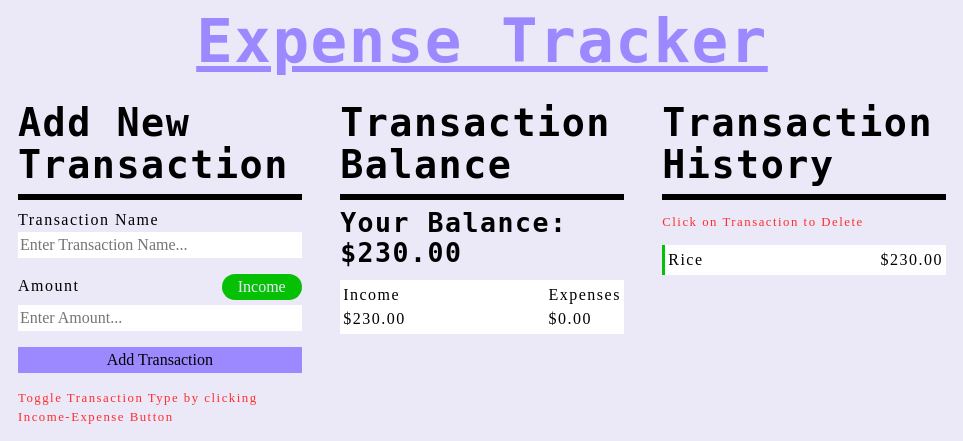
Test: App › it updates expense with form data
The image size is (963, 441).
Type "Beans" into the field with placeholder "Enter Transaction Name...".
click(160, 245); type("Beans")  # box [18,232,302,258]
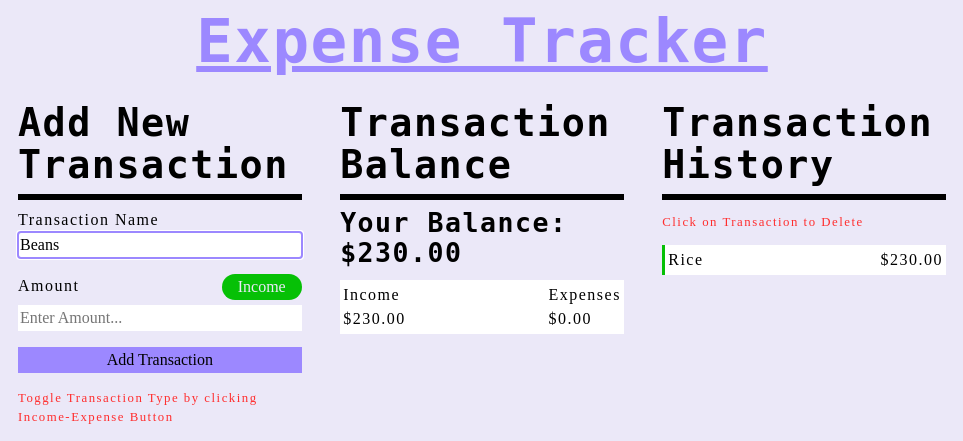
Click the button "Income".
click(262, 287)  # box [222,274,302,300]
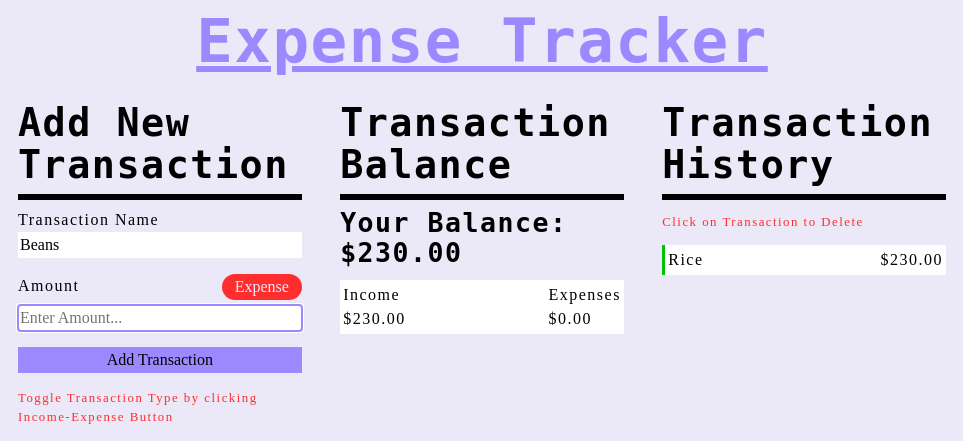
Type "30" into the field with placeholder "Enter Amount...".
click(160, 318); type("30")  # box [18,305,302,331]
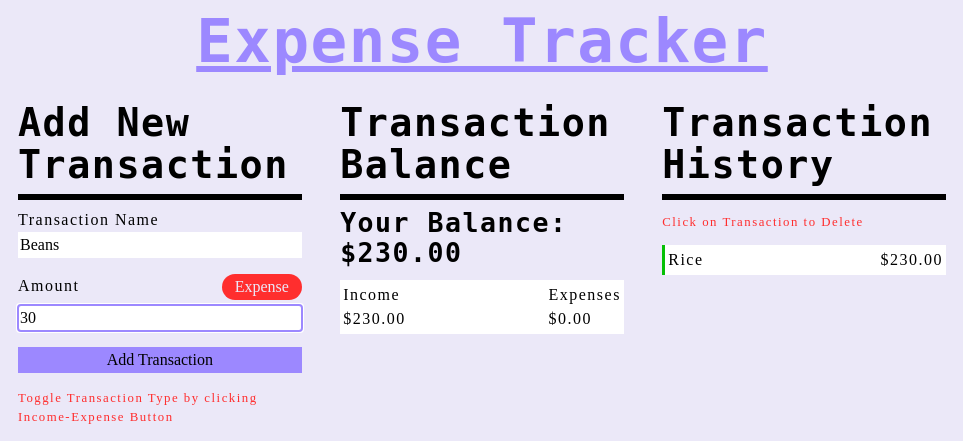
Click the button "Add Transaction".
click(160, 360)  # box [18,347,302,373]
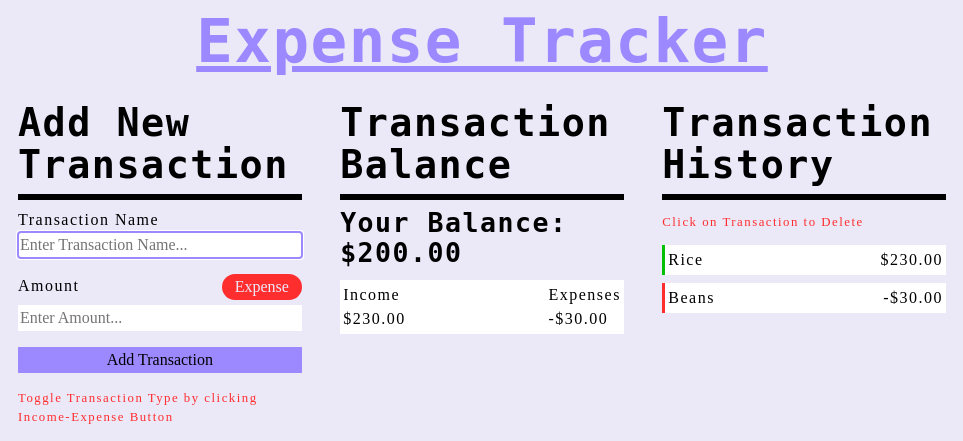
Check: the text "Click on Transaction to Delete" is shown, box [662,215,864,229]
Check: the heading "Your Balance: $200.00" is shown, box [340,207,567,268]
